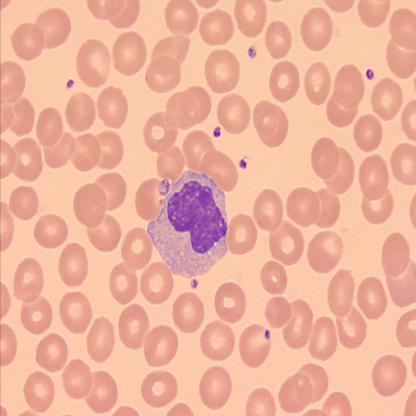Monocyte: (146, 168, 232, 281)
